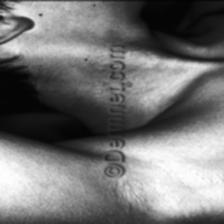Unclassified: (114, 173, 176, 207)
